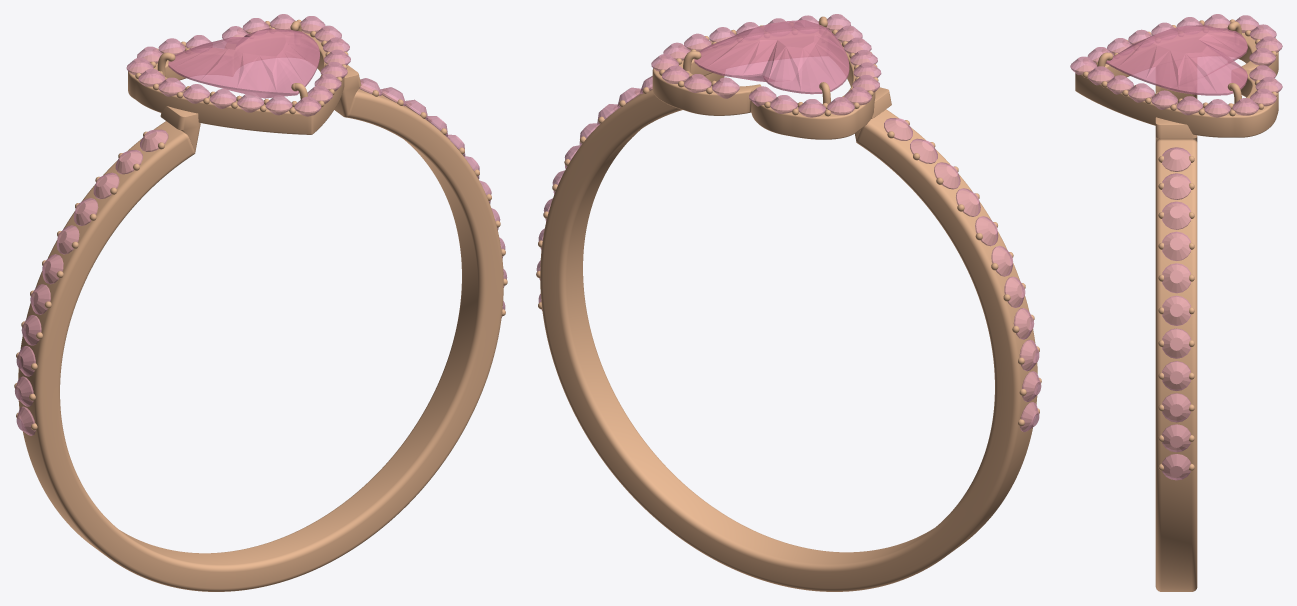
File: J003-detail-v06.glb
3 views of the same model, side by side, from view 1: azimuth 30°, elevation 25°; view 2: azimuth 150°, elevation 25°; view 3: azimuth 270°, elevation 25° (orthographic). The views are drawn at different scales.
Parts seen in each view (by area): view 1: J003_Metal, J003_AccentStones, J003_MainStone; view 2: J003_Metal, J003_AccentStones, J003_MainStone; view 3: J003_Metal, J003_AccentStones, J003_MainStone.
Boxes of the visible parts, x1,y1,x2,y2 form: J003_Metal: (14, 19, 507, 591); J003_AccentStones: (15, 14, 507, 435); J003_MainStone: (168, 28, 319, 98); J003_Metal: (536, 16, 1041, 591); J003_AccentStones: (536, 14, 1041, 432); J003_MainStone: (694, 20, 849, 94); J003_Metal: (1075, 19, 1278, 591); J003_AccentStones: (1070, 14, 1282, 480); J003_MainStone: (1106, 25, 1247, 95).
Size of the model in its own units: 0.0185 by 0.0195 by 0.00711.
